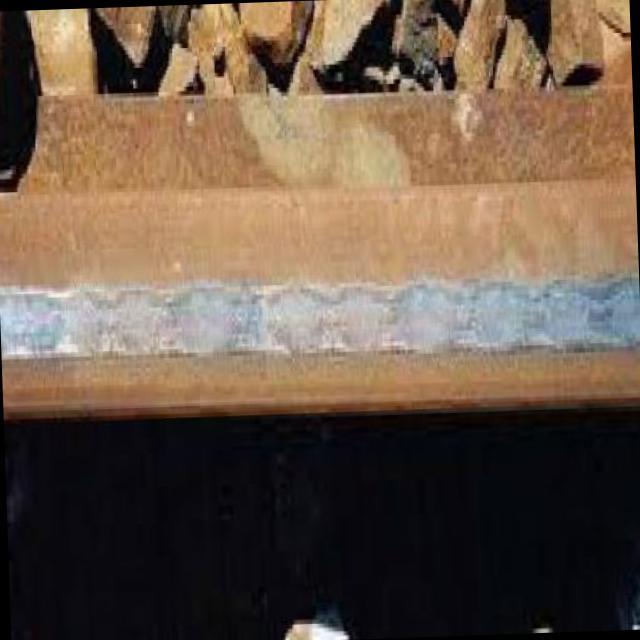defective: (7, 73, 640, 555)
